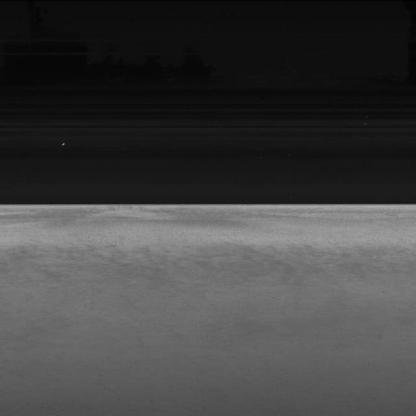silk_spot: (136, 245, 308, 276)
